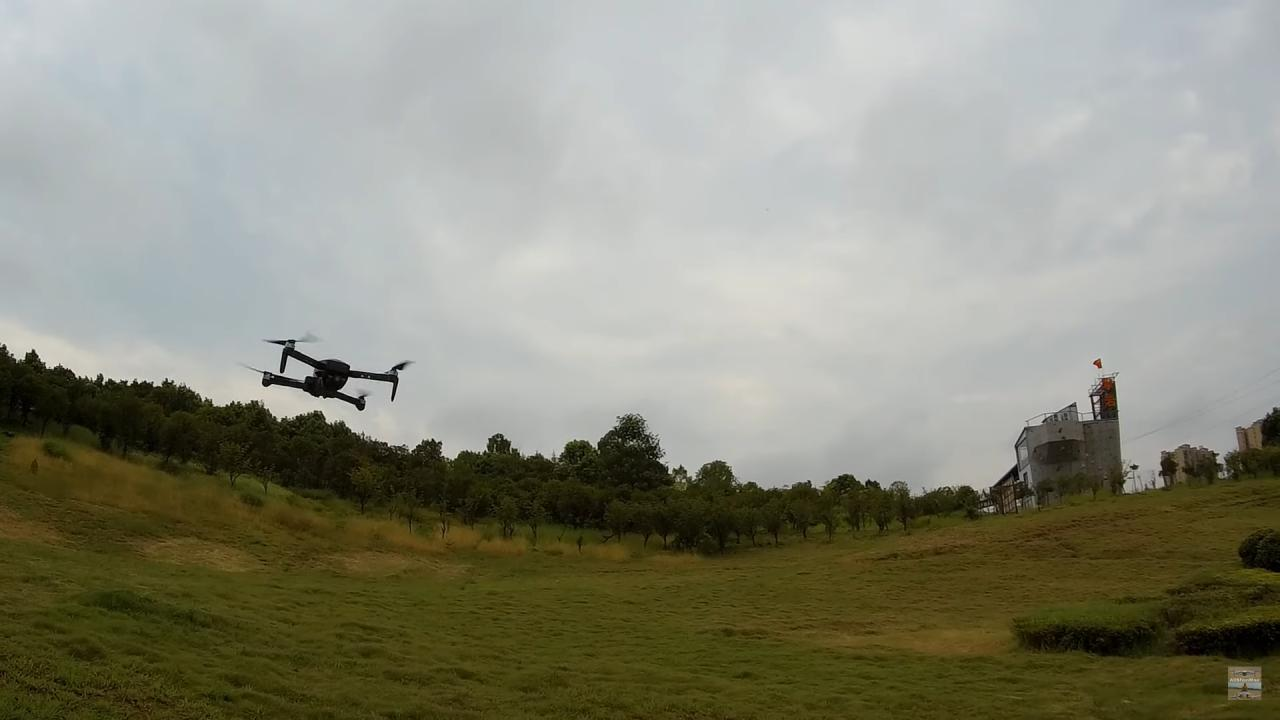Drone: (230, 326, 427, 421)
